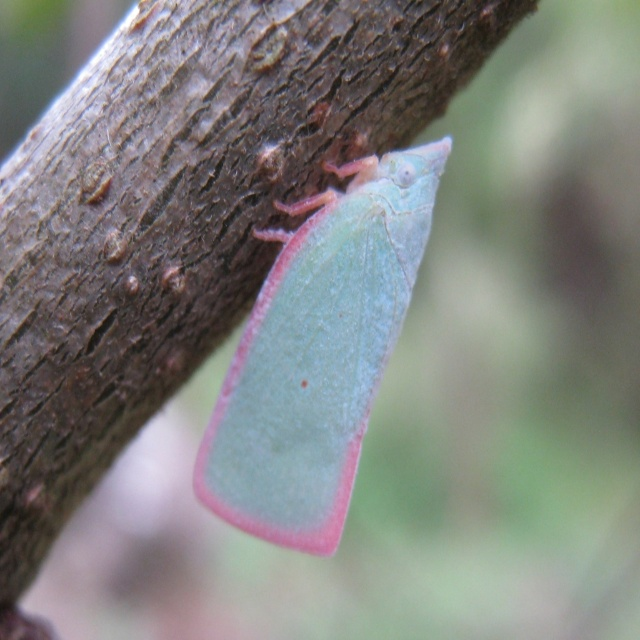Moths and butterflies: (191, 136, 458, 556)
